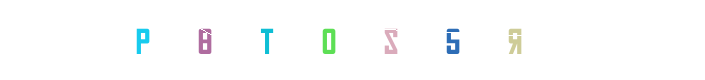0: (288, 0, 368, 80)
5: (412, 0, 492, 80)
8: (164, 0, 244, 80)
P: (153, 0, 233, 80)
R: (415, 0, 495, 80)
S: (313, 0, 393, 80)
T: (271, 0, 351, 80)
